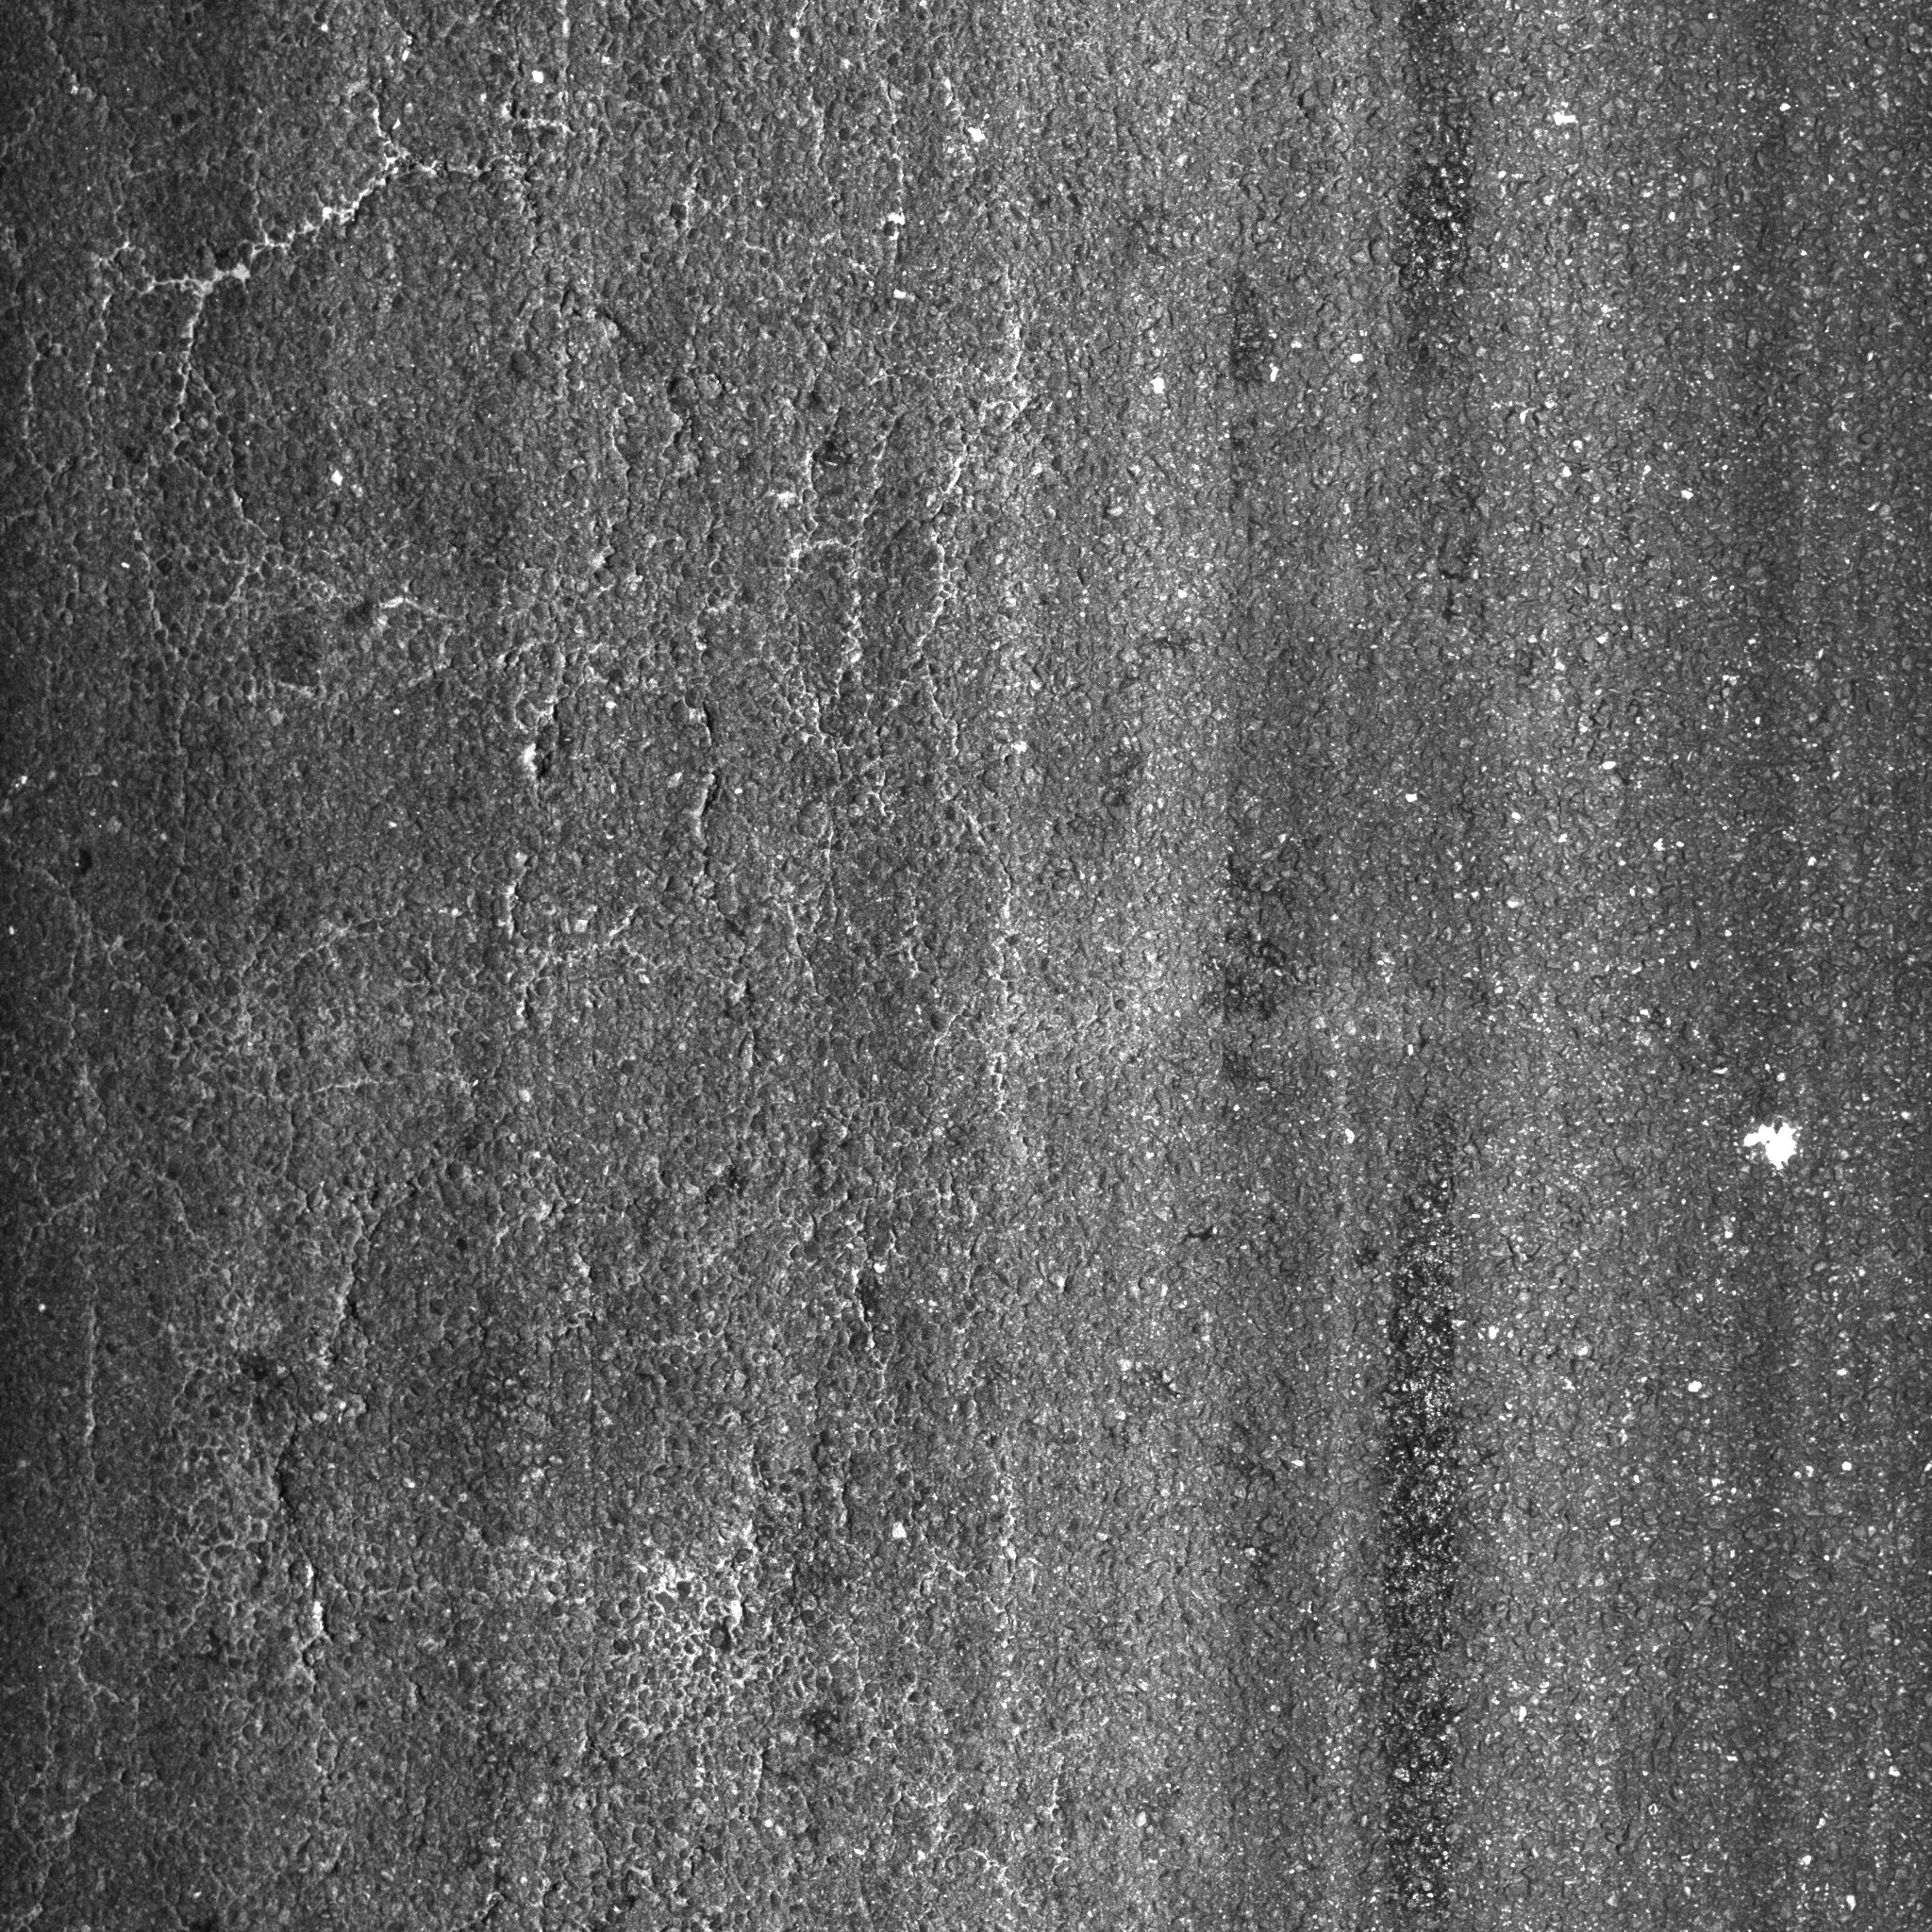alligator: (18, 9, 1129, 1913)
